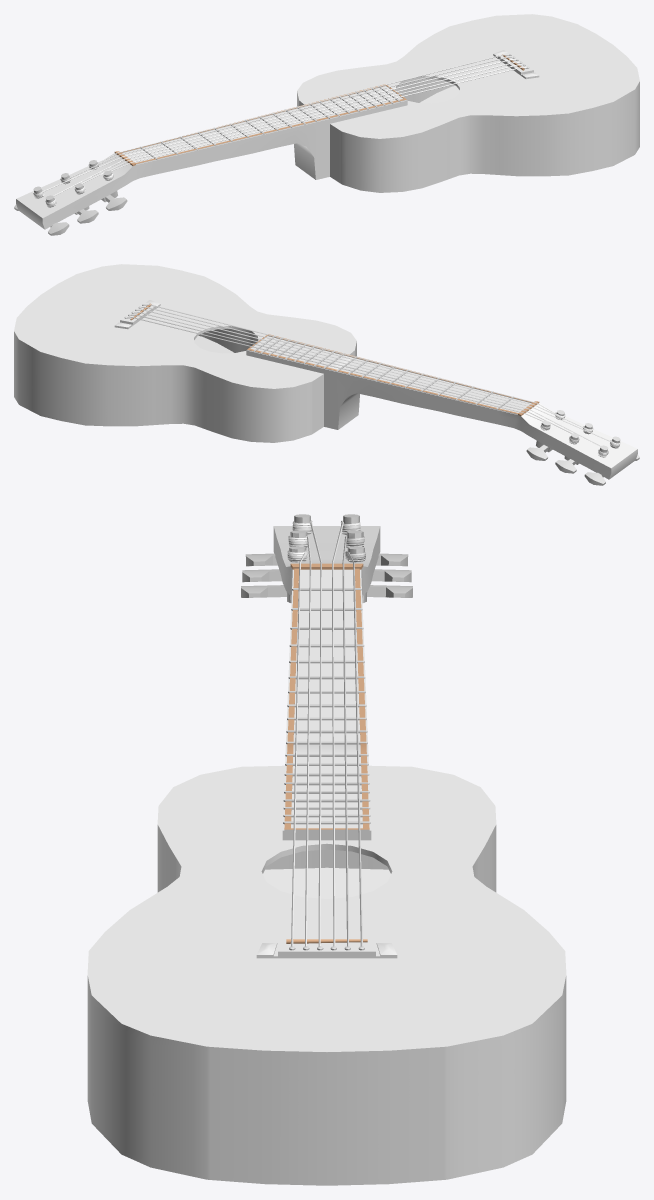
Rendered from AcousticGuitar.glb.
3 views of the same model, one above another, from view 1: azimuth 30°, elevation 25°; view 2: azimuth 150°, elevation 25°; view 3: azimuth 270°, elevation 25° (orthographic). The views are drawn at different scales.
Parts seen in each view (by area): view 1: Guitar; view 2: Guitar; view 3: Guitar.
Part boxes in pixels (x1=…): Guitar: x1=14, y1=14, x2=639, y2=235; Guitar: x1=14, y1=264, x2=639, y2=485; Guitar: x1=87, y1=514, x2=566, y2=1185.
Size of the model in its own units: 4.32 by 0.533 by 1.54.
